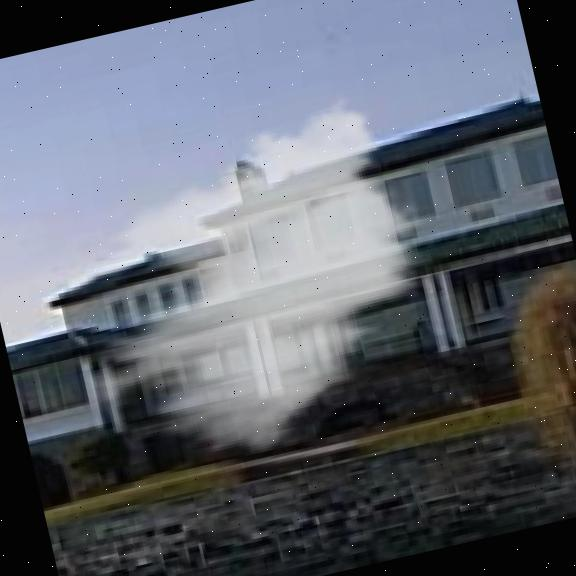smoke: (36, 76, 470, 495)
